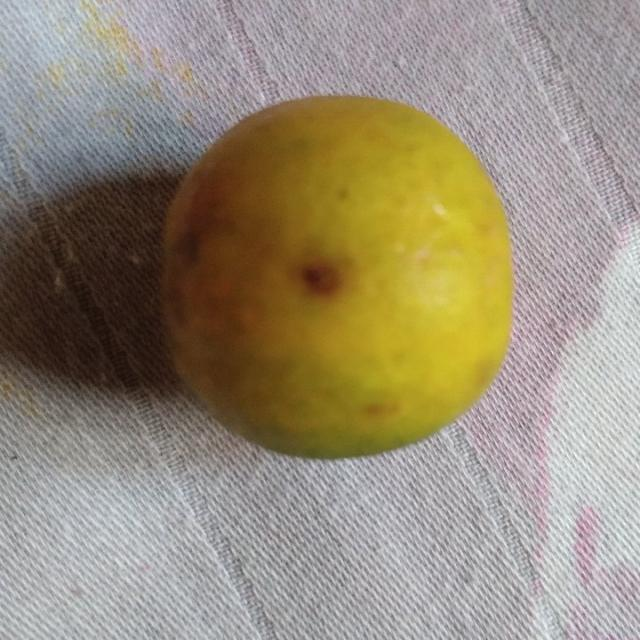black spot: (167, 74, 513, 464)
